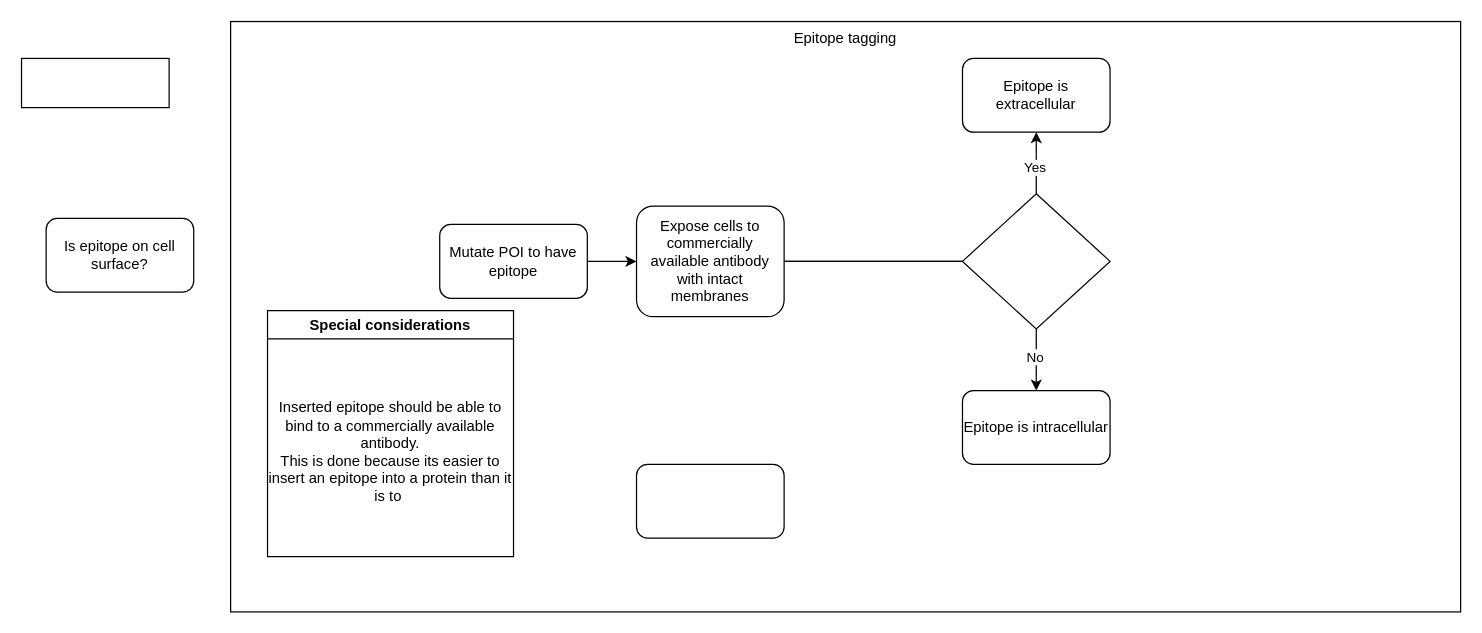
Image size: 1482x633. Some labels were removed from this diagram. Each missing label, with the centre of its shape:
"Control: permeabilize membranes during AB exposure" belongs at [709,500].
"Glycosylation" belongs at [94,82].
"Is there a WB signal?" belongs at [1035,260].
